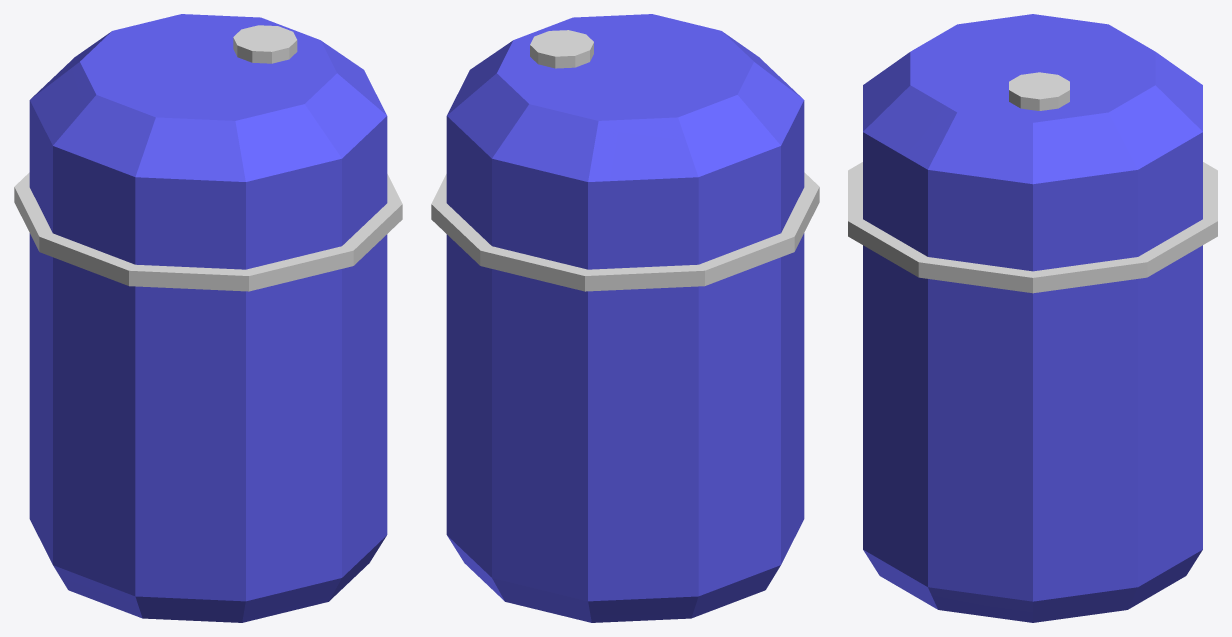
Rendered from SciFi_Modular_Storage_Tank_Blue_01.fbx.
The picture shows the model from 3 angles, left to right: view 1: azimuth 30°, elevation 25°; view 2: azimuth 150°, elevation 25°; view 3: azimuth 270°, elevation 25°; orthographic projection.
Visible parts, largest first — view 1: SciFi_Modular_Storage_Tank_Blue_01; view 2: SciFi_Modular_Storage_Tank_Blue_01; view 3: SciFi_Modular_Storage_Tank_Blue_01.
Boxes of the visible parts, x1,y1,x2,y2 form: SciFi_Modular_Storage_Tank_Blue_01: (14, 14, 402, 622); SciFi_Modular_Storage_Tank_Blue_01: (431, 14, 819, 622); SciFi_Modular_Storage_Tank_Blue_01: (848, 14, 1217, 622).
Bounding box in the file's own units: 108 × 153 × 103.
